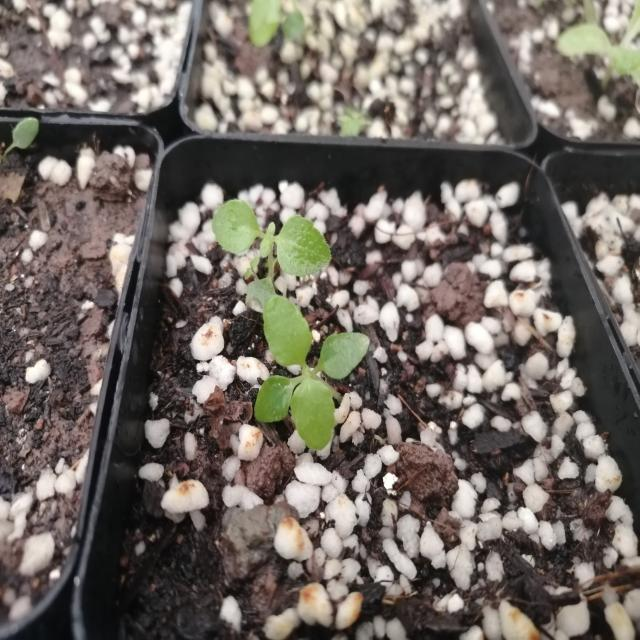billygoat_weed: (257, 298, 368, 447), (203, 203, 335, 315)
